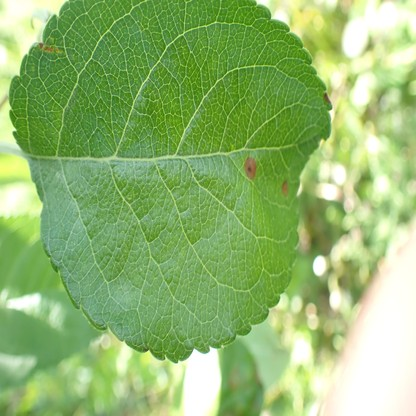frogeye_leaf_spot: (244, 156, 256, 180), (282, 180, 289, 196), (323, 90, 329, 104)
